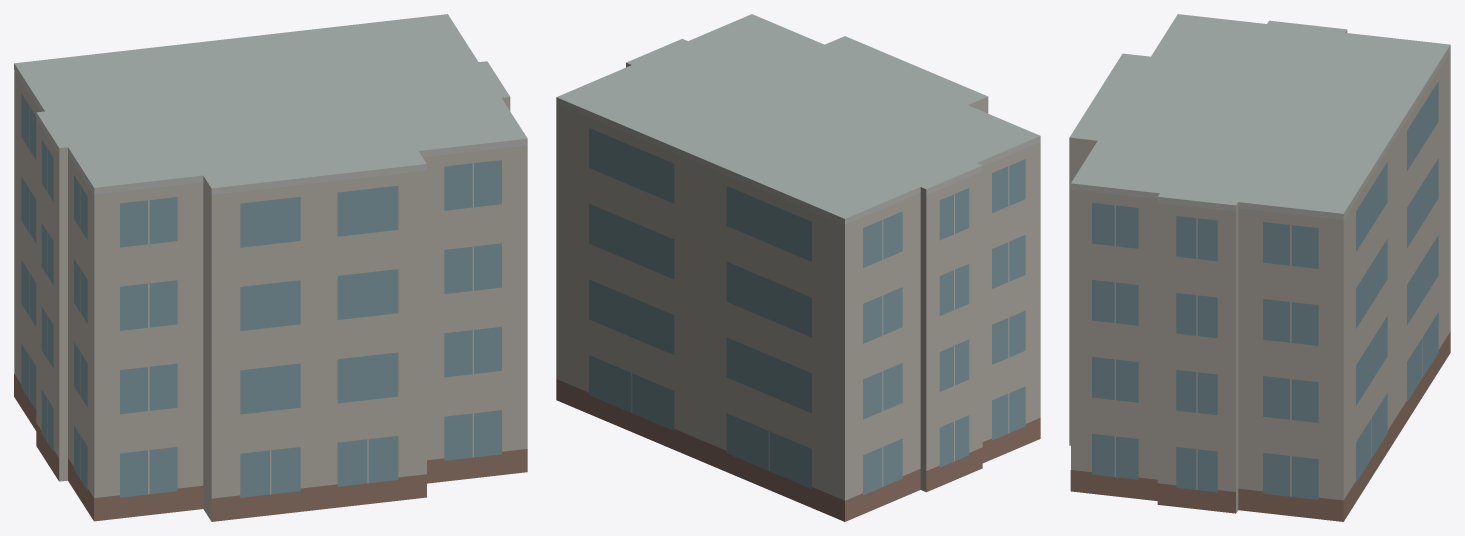
The model's file is survey-upis-32595640.glb.
3 renders of one model, left to right at view 1: azimuth 30°, elevation 25°; view 2: azimuth 150°, elevation 25°; view 3: azimuth 270°, elevation 25°, orthographic. The views are drawn at different scales.
Parts seen in each view (by area): view 1: survey-upis-32595640.tmp; view 2: survey-upis-32595640.tmp; view 3: survey-upis-32595640.tmp.
Boxes of the visible parts, x1,y1,x2,y2 form: survey-upis-32595640.tmp: [14, 14, 527, 521]; survey-upis-32595640.tmp: [556, 14, 1040, 521]; survey-upis-32595640.tmp: [1069, 14, 1450, 521].
Size of the model in its own units: 16.99 by 12.2 by 13.69.
